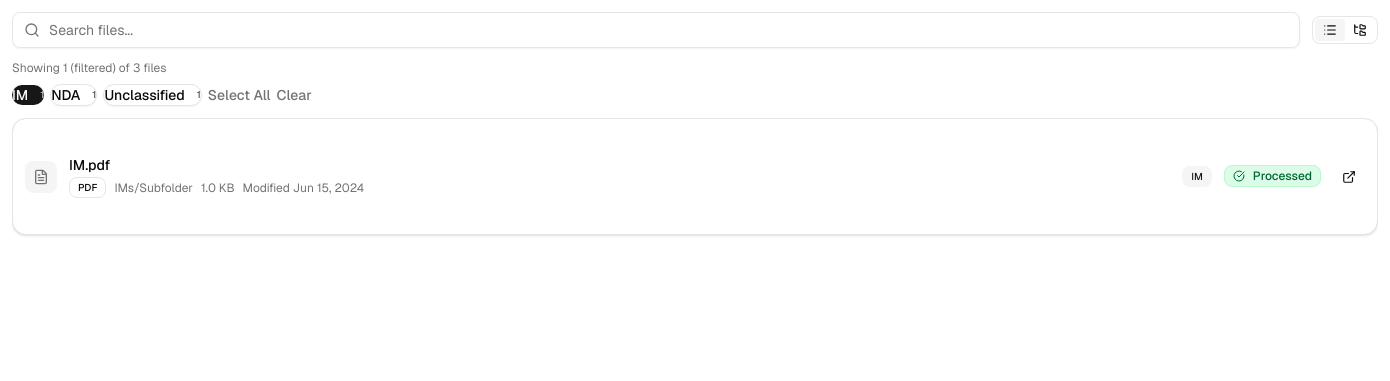
Scenario: VirtualFilesList › file type filter pills › filters files when a pill is toggled
Expected: the text "IM.pdf" is shown, [69,156,110,174]
# Toggle IM off, toggle NDA on — should show only NDA
Click the button "IM 1": (28, 95) [12,85,44,105]
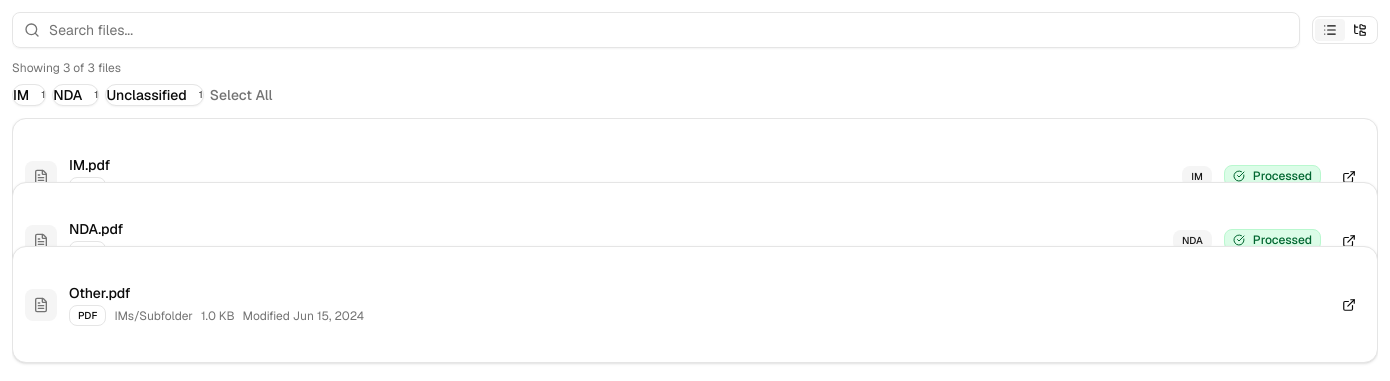
Click the button "NDA 1": (76, 95) [52,84,99,106]
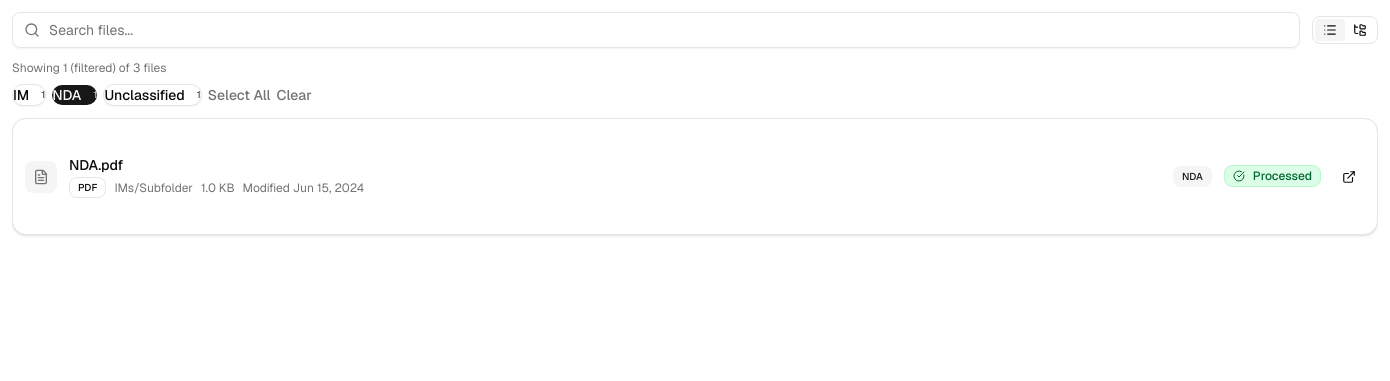
Result: the text "NDA.pdf" is shown at [69,156,123,174]
Result: the text "IM.pdf" is gone
Result: the text "Other.pdf" is gone
